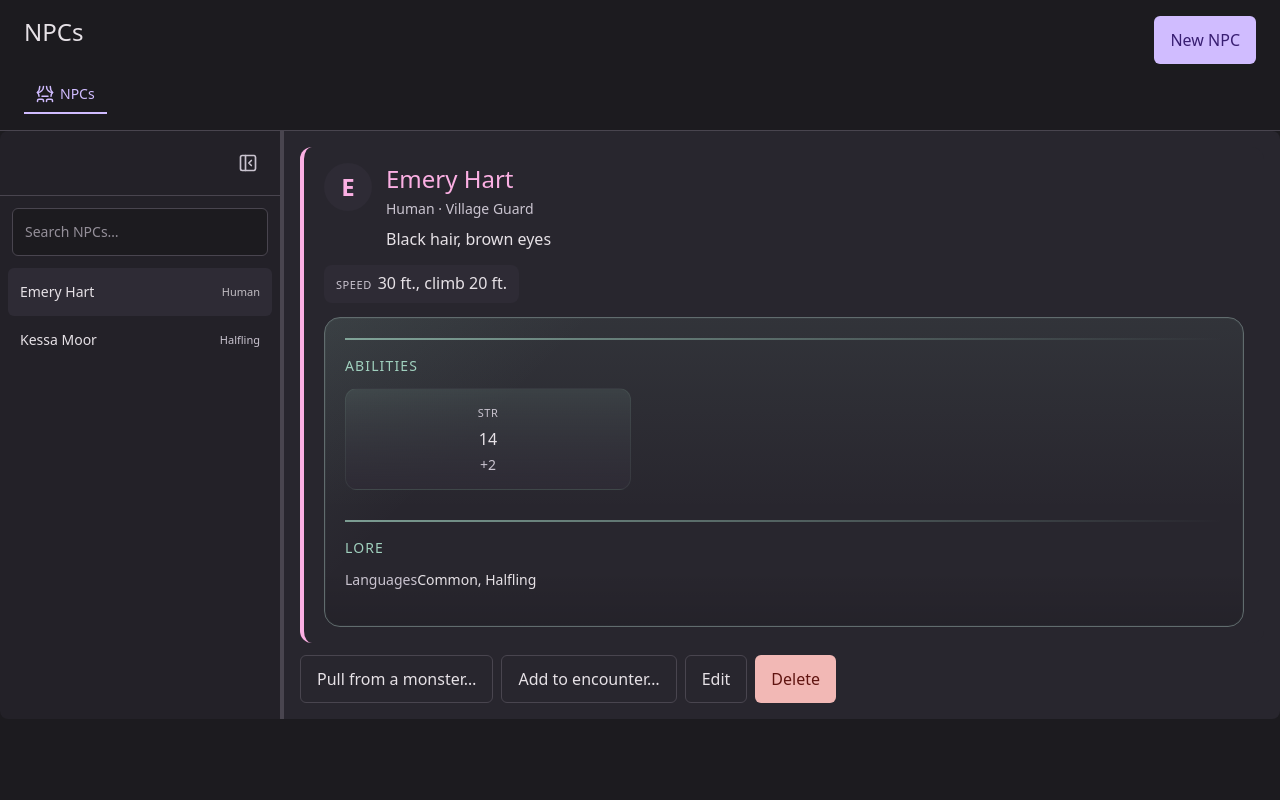
Test case: NPCBrowserPage › selecting an NPC shows their detail card
This screenshot has width=1280, height=800.
Click the text "Kessa Moor".
click(58, 340)  # box 20,330 -> 97,350
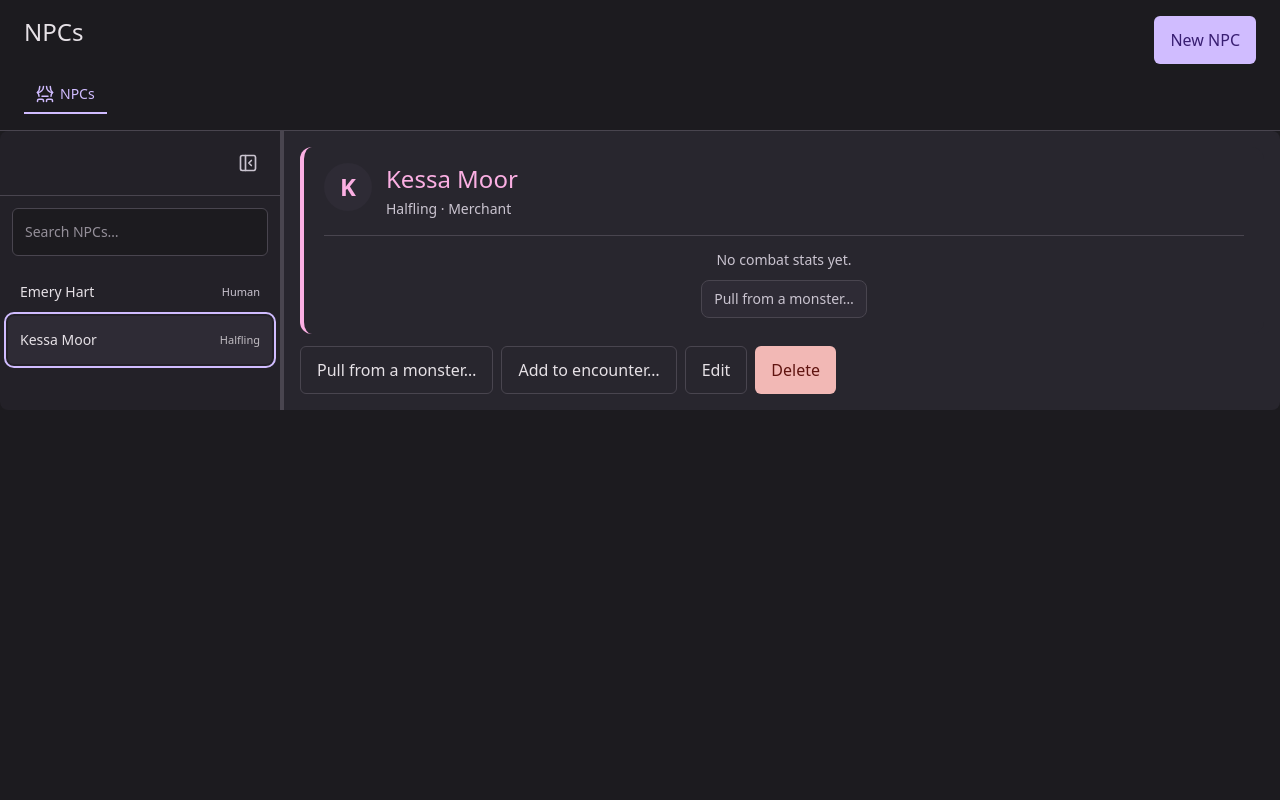
Expected: the heading "Kessa Moor" is shown, 386,163 -> 518,195
